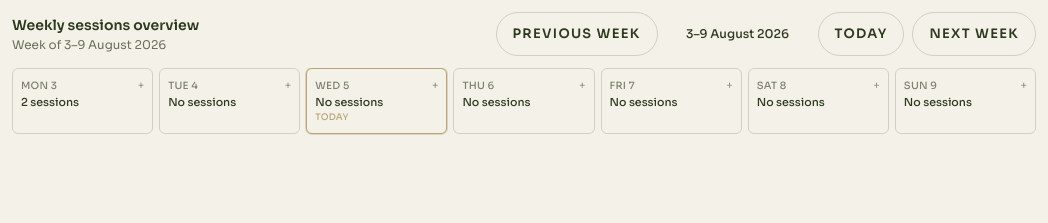
Scenario: WeeklySessionsOverview › lists Mat and Reformer clients from parallel sessions in one slot
This screenshot has width=1048, height=223.
What coordinates should you click on to do the following:
click the button with aria-label "Expand Monday, 3 August: 2 sessions"
I would click on:
 (83, 93)
Its box is [13, 69, 152, 117].
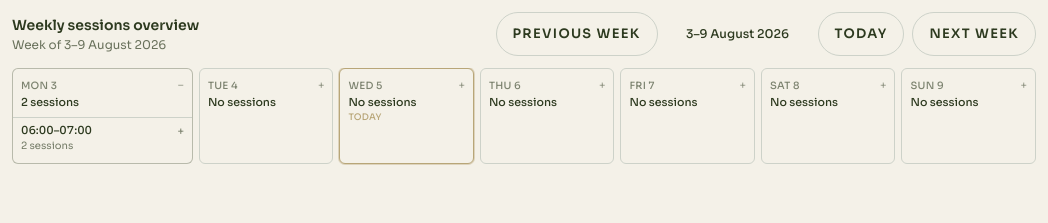
What coordinates should you click on to do the following:
click the button with aria-label "Expand 06:00–07:00: 2 sessions"
I would click on:
 (102, 138)
Its box is [13, 118, 192, 159].
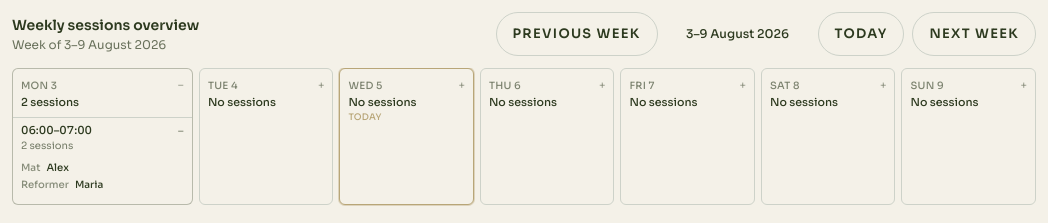
Expected: the text "Mat" is shown, [21, 160, 40, 174]
Expected: the text "Alex" is shown, [46, 160, 69, 174]
Expected: the text "Reformer" is shown, [21, 178, 69, 192]
